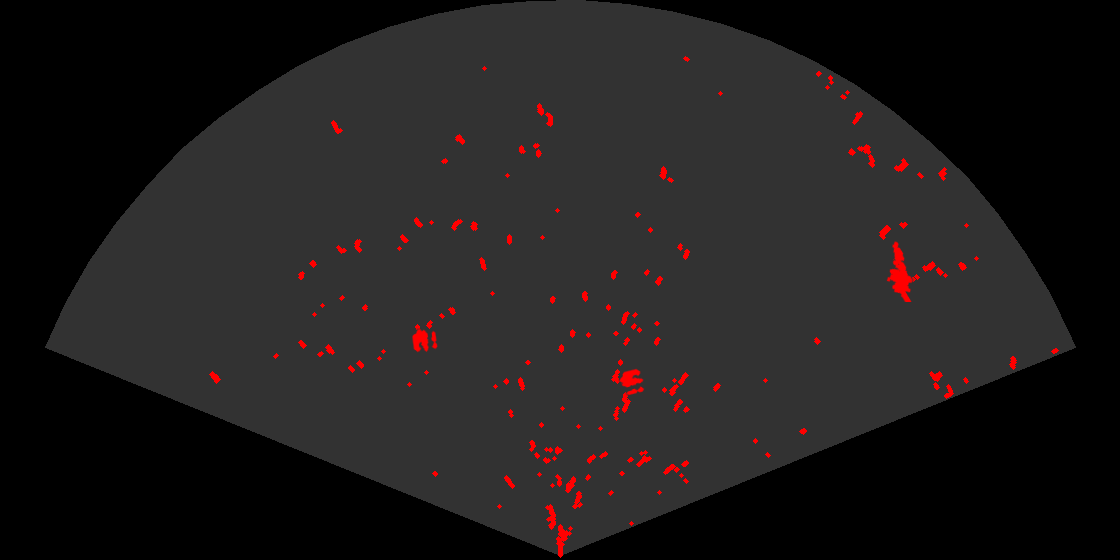ball: (618, 367, 646, 397), (411, 328, 439, 354)
frogman: (885, 240, 914, 302)
